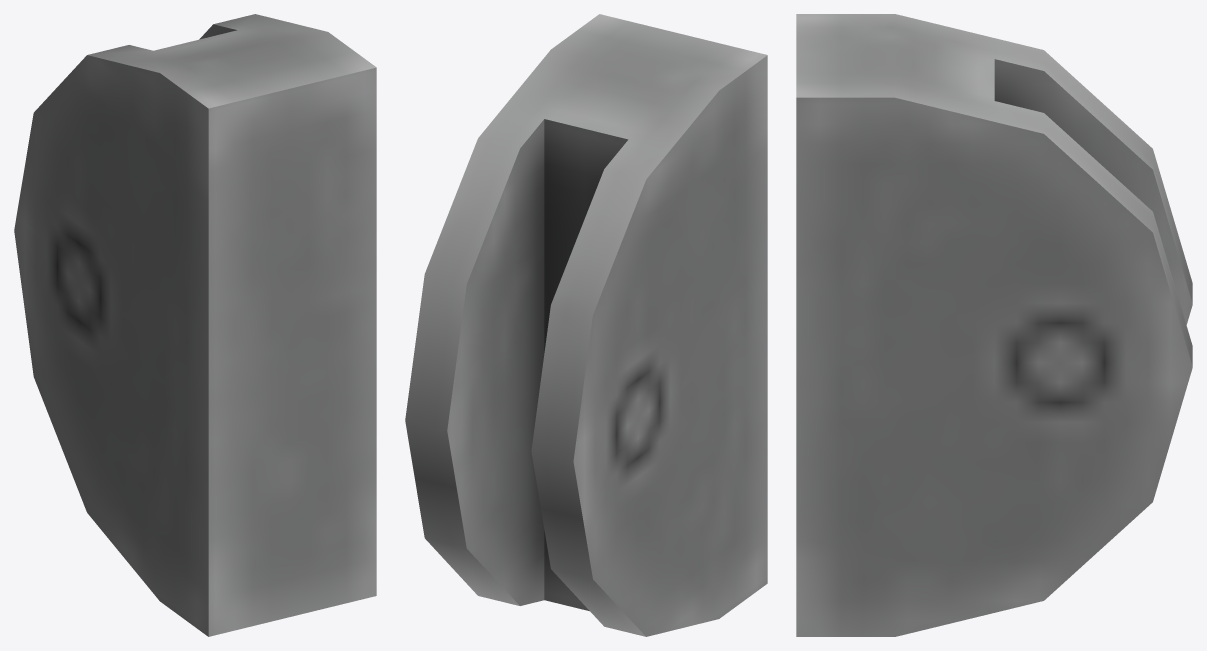
File: atria_antenna_2_base_3.obj
3 renders of one model, left to right at view 1: azimuth 30°, elevation 25°; view 2: azimuth 150°, elevation 25°; view 3: azimuth 270°, elevation 25°, orthographic. The views are drawn at different scales.
Visible parts, largest first — view 1: atria_antenna_2_base_3; view 2: atria_antenna_2_base_3; view 3: atria_antenna_2_base_3.
Part boxes in pixels (x1,y1,x2,y2): atria_antenna_2_base_3: [14, 14, 376, 636]; atria_antenna_2_base_3: [405, 14, 767, 636]; atria_antenna_2_base_3: [796, 14, 1192, 636].
Size of the model in its own units: 0.05 by 0.15 by 0.1.
1 material, 1 textured.
